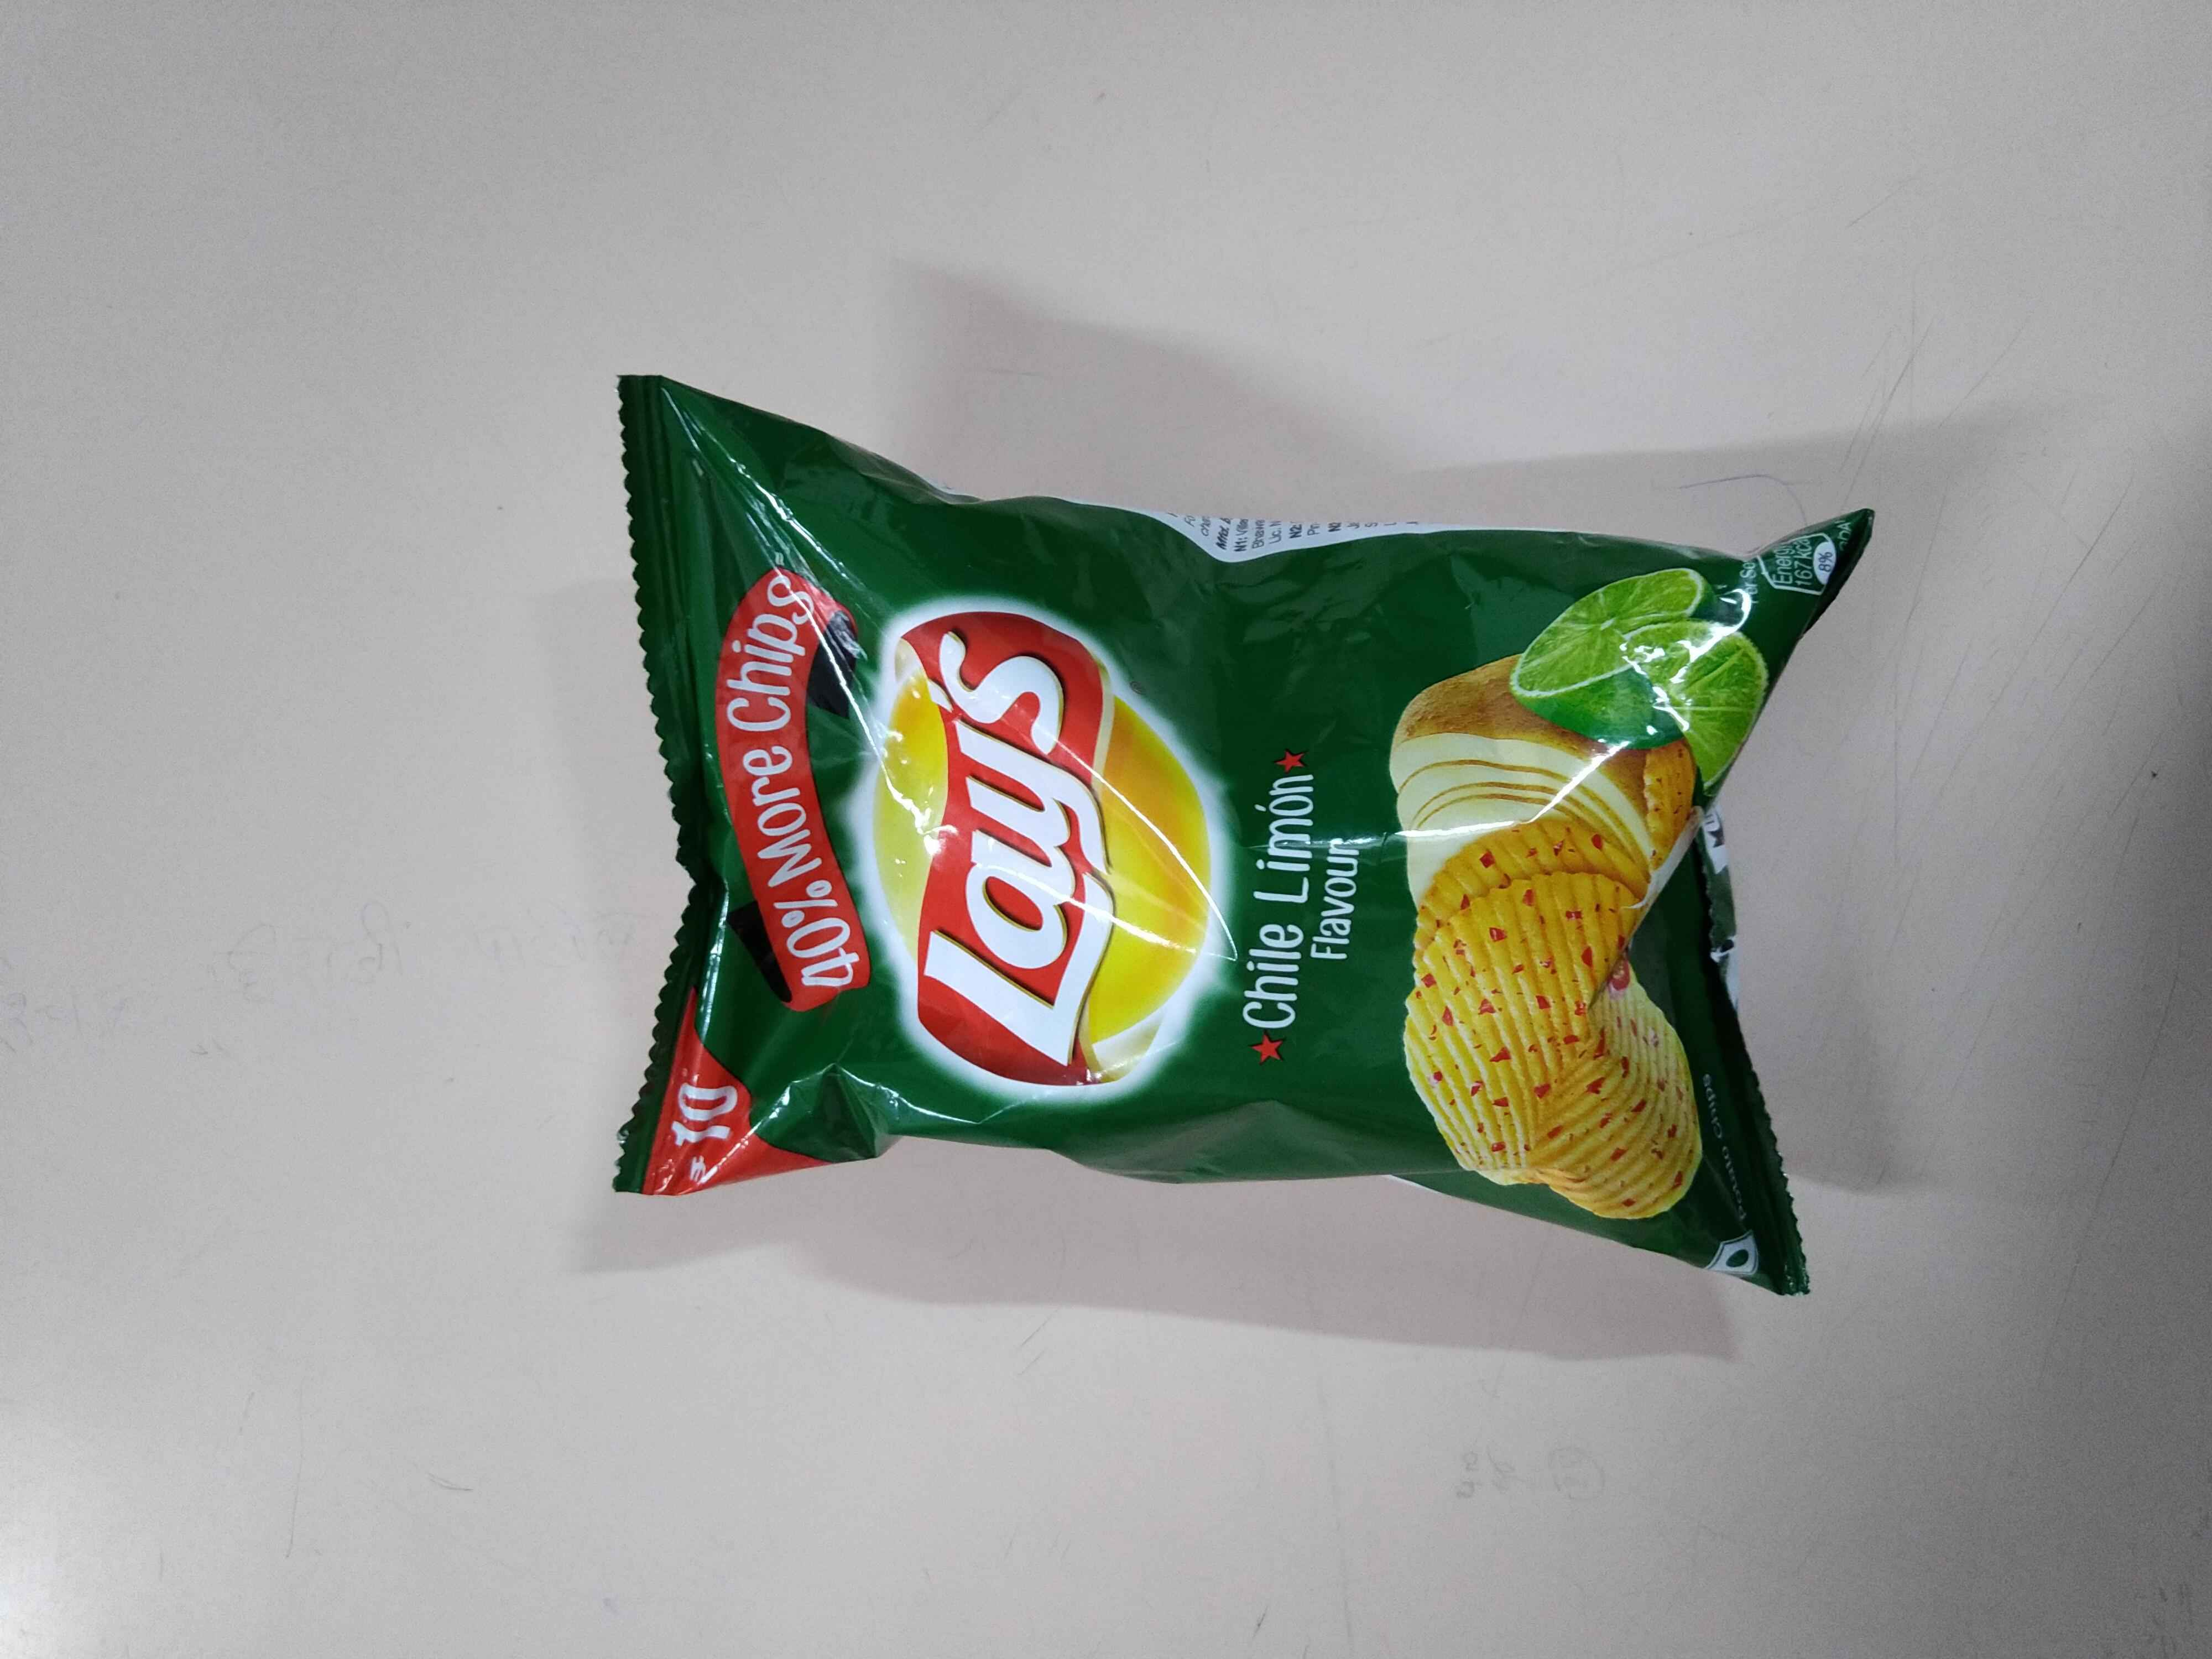Lays: (841, 584, 1228, 1091)
